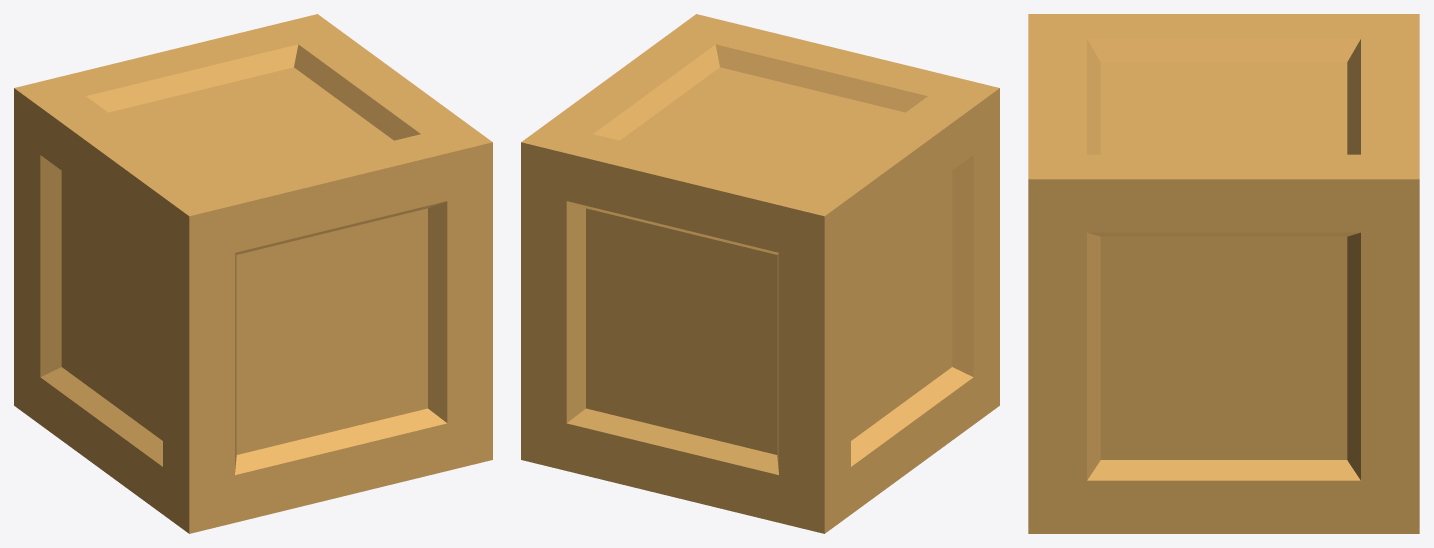
3 views of the same model, side by side, from view 1: azimuth 30°, elevation 25°; view 2: azimuth 150°, elevation 25°; view 3: azimuth 270°, elevation 25° (orthographic). The views are drawn at different scales.
Visible parts, largest first — view 1: Cube.118; view 2: Cube.118; view 3: Cube.118.
Part boxes in pixels (x1,y1,x2,y2): Cube.118: [14, 14, 492, 533]; Cube.118: [521, 14, 999, 533]; Cube.118: [1028, 14, 1419, 533].
Size of the model in its own units: 200 by 200 by 200.
